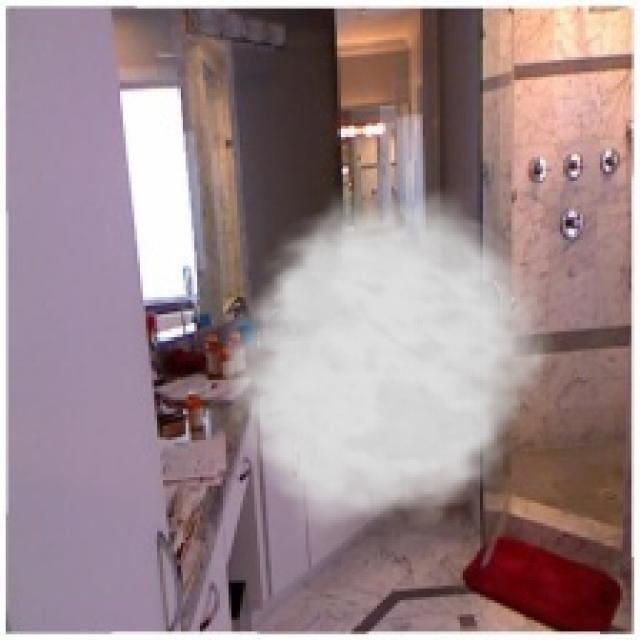smoke: (211, 186, 563, 540)
